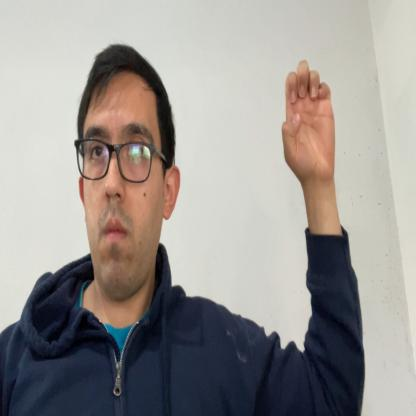E: (280, 58, 336, 182)
